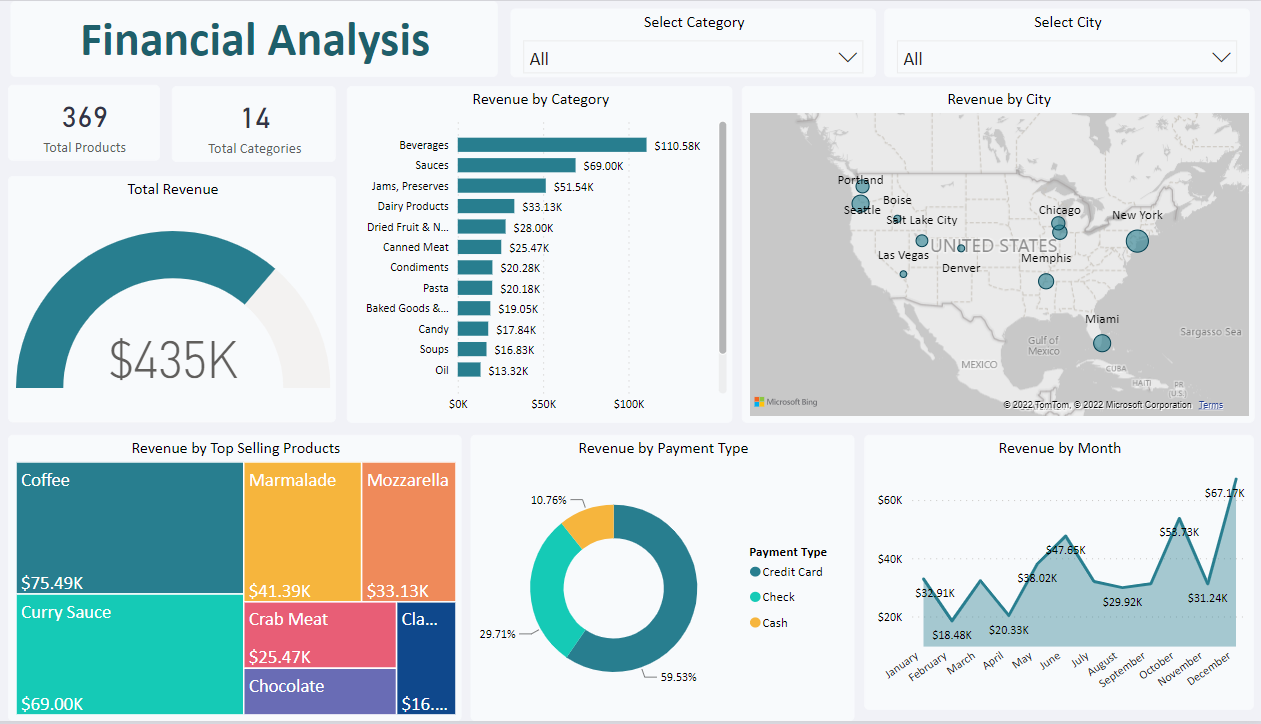

The page's visual inventory and layout, read from the dashboard file:
{"tool":"powerbi","page":{"name":"Page 1","canvas":[1280,720],"ordinal":0},"visuals":[{"type":"card","fields":{"Values":["CountNonNull(Sheet1.Product Name)"]},"box":[25.3,83.2,152,76],"z":0},{"type":"stackedAreaChart","fields":{"Category":["Sheet1.Shipped Date.Variation.Date Hierarchy.Month"],"Y":["Sum(Sheet1.Revenue)"]},"box":[881.6,434.2,389.5,275],"z":1000},{"type":"clusteredBarChart","fields":{"Category":["Sheet1.Category"],"Y":["Sum(Sheet1.Revenue)"]},"box":[364.2,84.4,385.9,336.5],"z":2000},{"type":"map","title":"Revenue by City","fields":{"Category":["Sheet1.Ship City"],"Size":["Sum(Sheet1.Revenue)"]},"box":[758.6,84.4,512.6,336.5],"z":3000},{"type":"donutChart","fields":{"Category":["Sheet1.Payment Type"],"Y":["Sum(Sheet1.Revenue)"]},"box":[487.5,433.8,383.8,286.2],"z":4000},{"type":"gauge","title":"Total Revenue","fields":{"Y":["Sum(Sheet1.Revenue)"]},"box":[25.3,174.9,328,246],"z":5000},{"type":"treemap","title":"Revenue by Top Selling Products","fields":{"Values":["Sum(Sheet1.Revenue)"],"Group":["Sheet1.Product Name"]},"box":[25,433.8,453.8,286.2],"z":6000},{"type":"card","fields":{"Values":["Count(Sheet1.Category)"]},"box":[189.3,84.4,164,76],"z":7000},{"type":"textbox","box":[27.7,0,487.2,76],"z":8000},{"type":"slicer","title":"Select City","fields":{"Values":["Sheet1.Ship City"]},"box":[900.9,7.2,365.4,68.7],"z":9000},{"type":"slicer","title":"Select Category","fields":{"Values":["Sheet1.Category"]},"box":[527,7.2,365.4,68.7],"z":10000}]}

Visuals, with their boxes in screenshot pixels (x1, y1, x2, y2), scaled from the page's 1280x720 canvas onto the 1261x724 screenshot:
card - CountNonNull(Sheet1.Product Name): [left=25, top=84, right=175, bottom=160]
stackedAreaChart - Sheet1.Shipped Date.Variation.Date Hierarchy.Month x Sum(Sheet1.Revenue): [left=869, top=437, right=1252, bottom=713]
clusteredBarChart - Sheet1.Category x Sum(Sheet1.Revenue): [left=359, top=85, right=739, bottom=423]
"Revenue by City" map: [left=747, top=85, right=1252, bottom=423]
donutChart - Sheet1.Payment Type x Sum(Sheet1.Revenue): [left=480, top=436, right=858, bottom=723]
"Total Revenue" gauge: [left=25, top=176, right=348, bottom=423]
"Revenue by Top Selling Products" treemap: [left=25, top=436, right=472, bottom=723]
card - Count(Sheet1.Category): [left=186, top=85, right=348, bottom=161]
textbox: [left=27, top=0, right=507, bottom=76]
"Select City" slicer: [left=888, top=7, right=1248, bottom=76]
"Select Category" slicer: [left=519, top=7, right=879, bottom=76]
